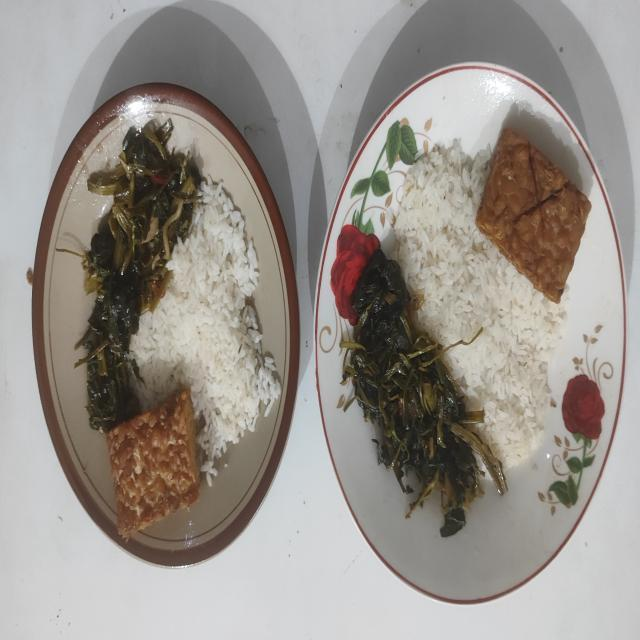nasi_putih: (393, 140, 567, 469), (130, 180, 280, 486)
tempe_goreng: (476, 129, 592, 303), (106, 389, 200, 539)
tumis_kangkung: (340, 248, 507, 536), (75, 119, 202, 432)
